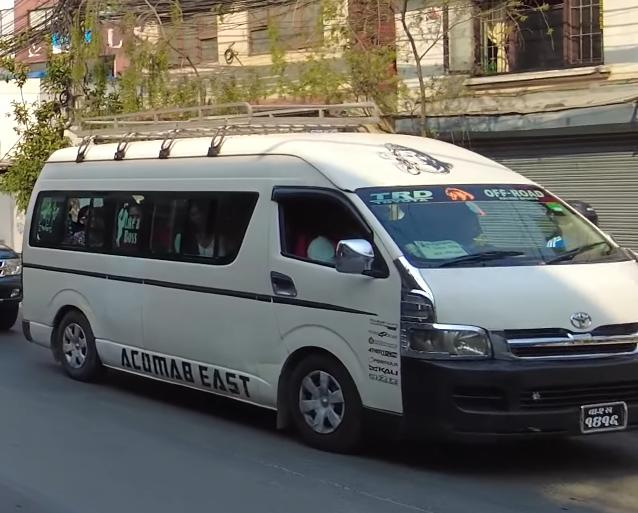micro_bus: (16, 127, 638, 465)
